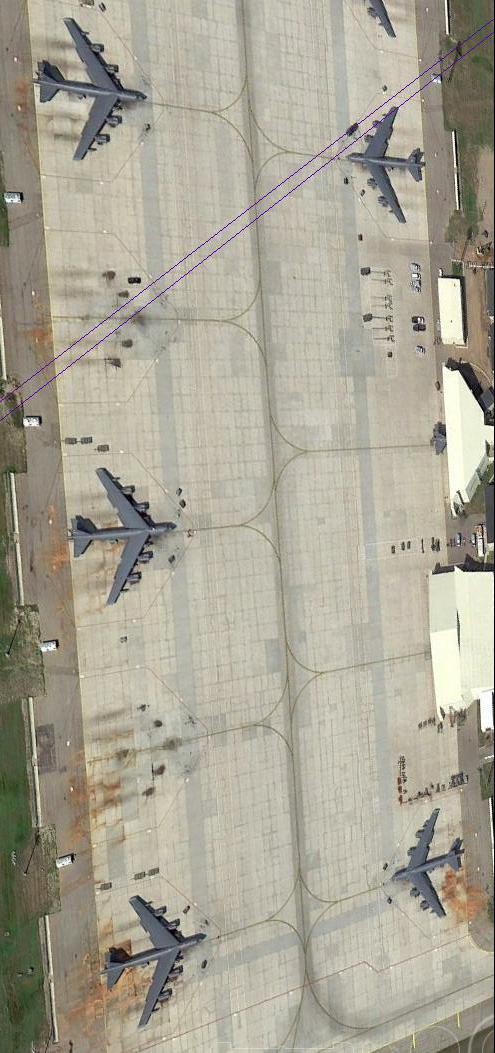B-52: (71, 466, 178, 611), (35, 23, 144, 164), (98, 894, 207, 1028), (345, 108, 427, 224), (387, 806, 466, 925)
